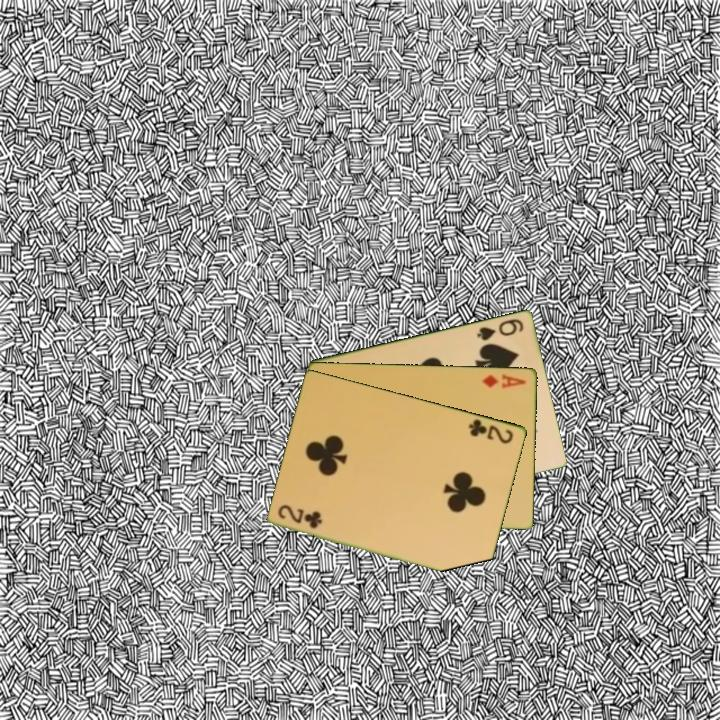2c: (465, 415, 516, 446), (275, 502, 325, 531)
6s: (474, 315, 527, 343)
Ad: (479, 370, 529, 391)
